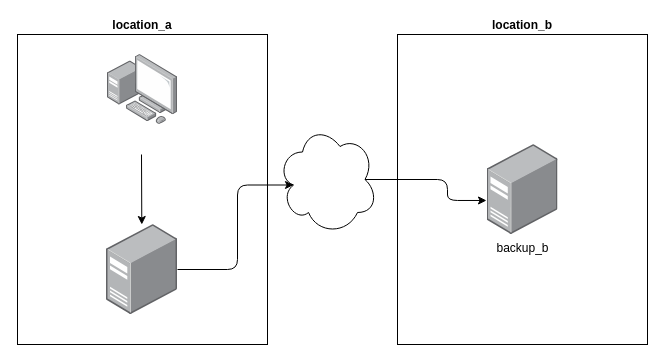
Some shapes in this 665 by 362 pixel diagram are drawn without their labels. The shapes that lost their labels are listed below. From the top down, each one's box as (x1, y1, x2, y2) in pixels, then its label:
(107, 54, 177, 124): local_desktop
(106, 224, 177, 314): backup_a
